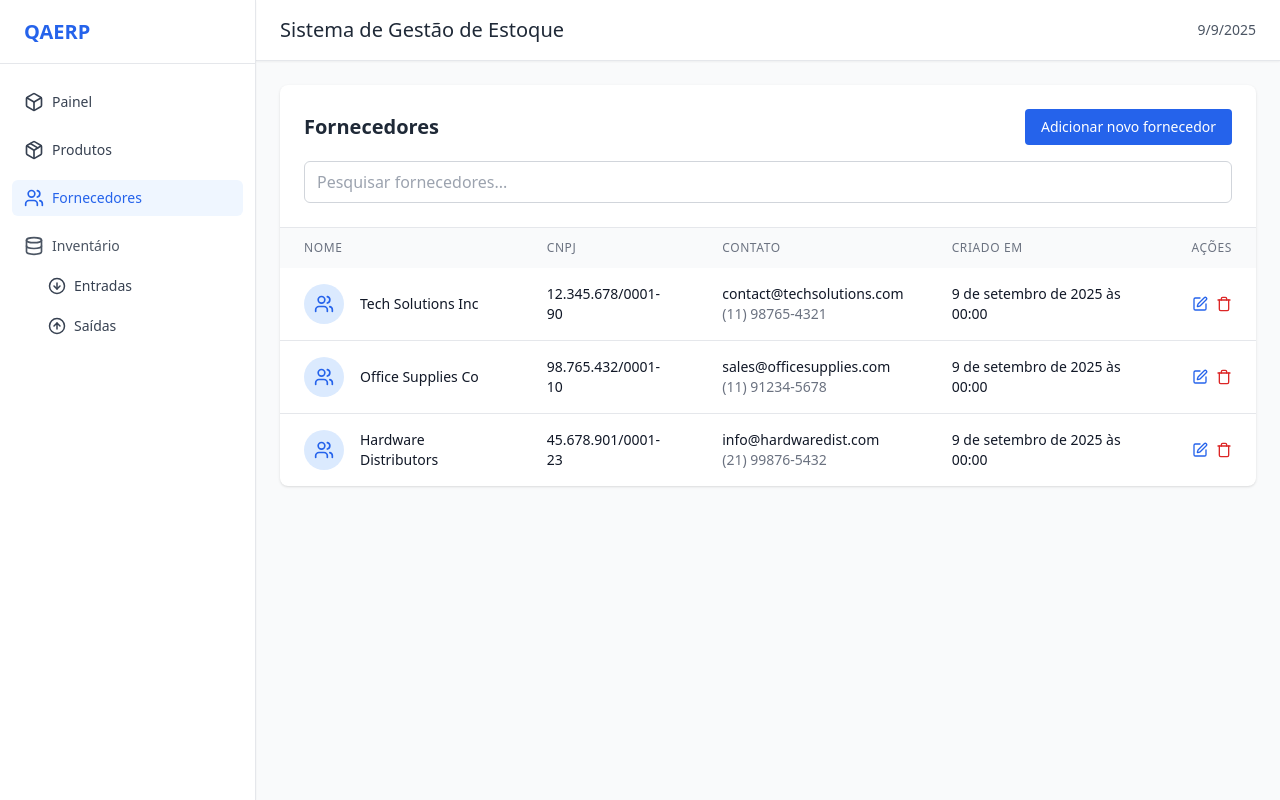
Fornececdores › Adicionar Fornecedores › Adicionar CNPJ sem mascara
This screenshot has width=1280, height=800.
Click the button "Adicionar novo fornecedor" at (1129, 127), box [1025,109,1232,145]
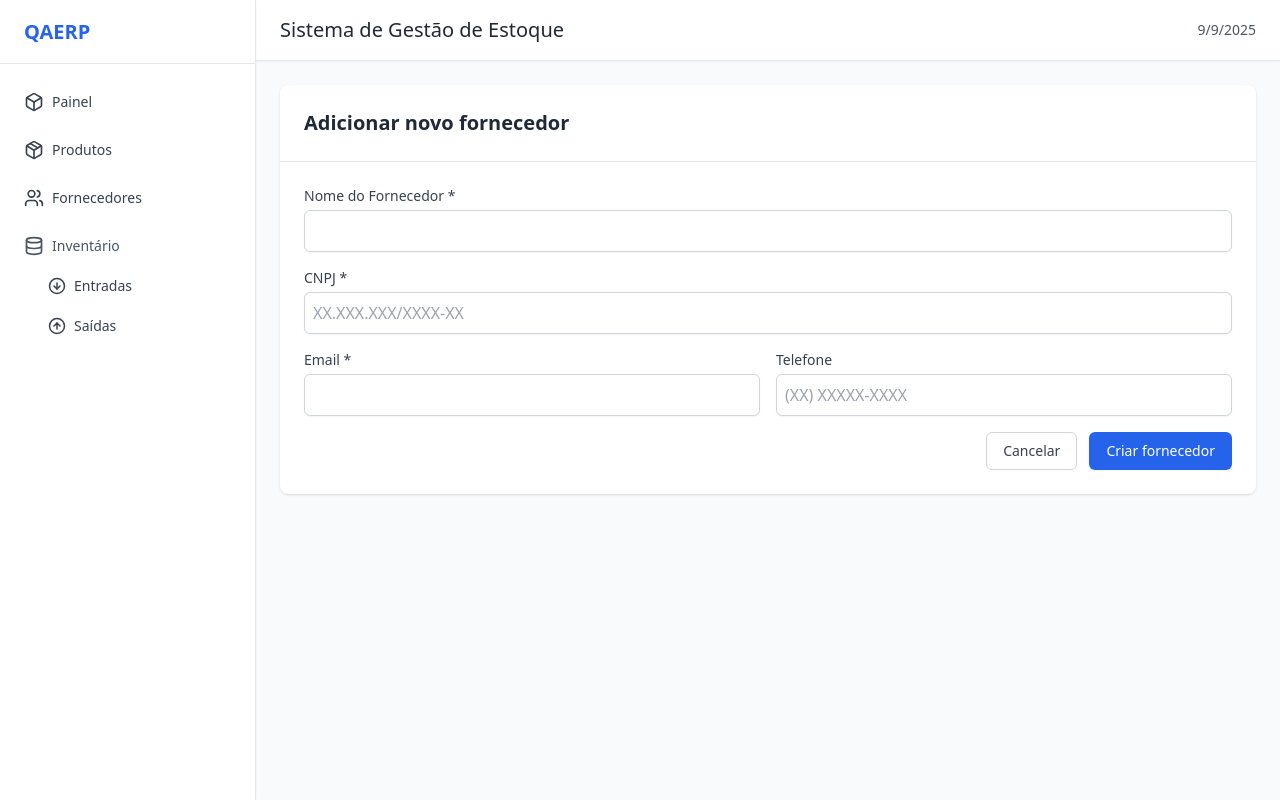
Type "Jogos LTDA" into the field with id "name" at (768, 231), box [304,210,1232,252]
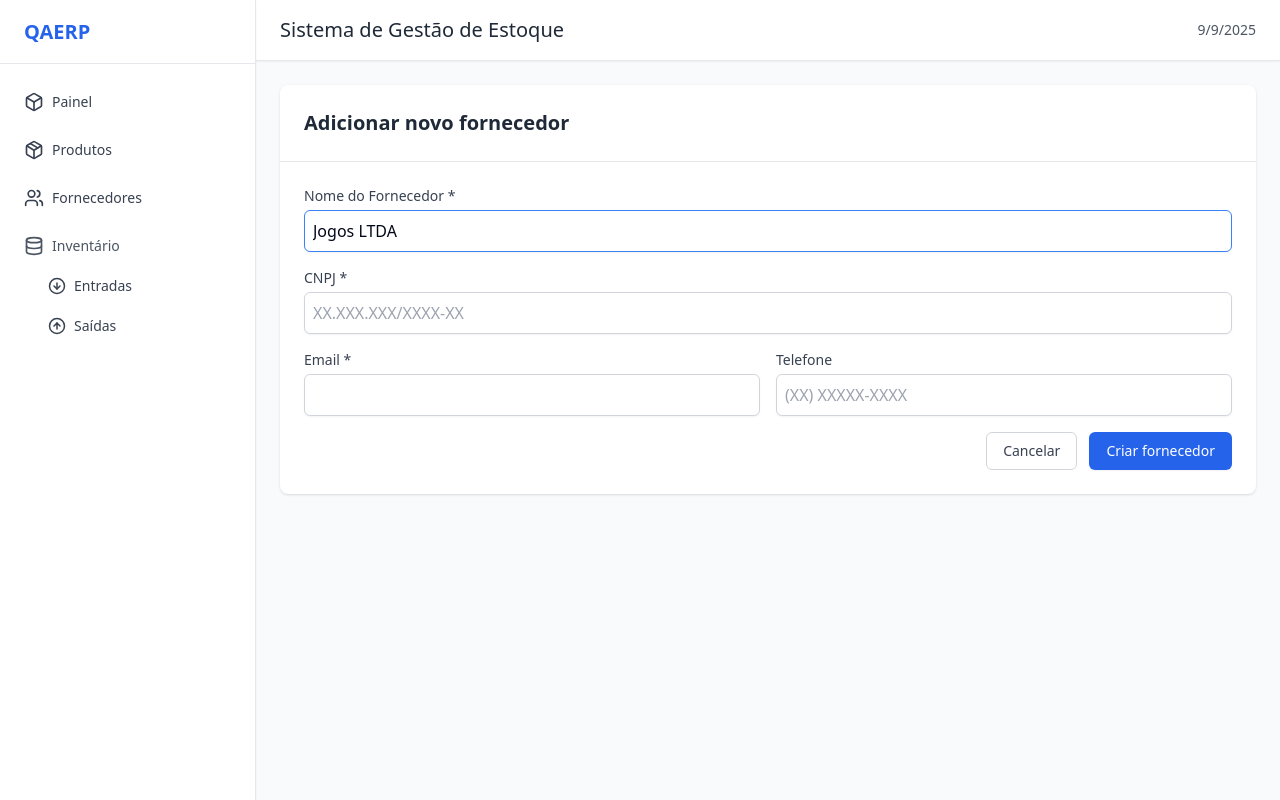
Type "34104798000118" into the field with id "cnpj" at (768, 313), box [304,292,1232,334]
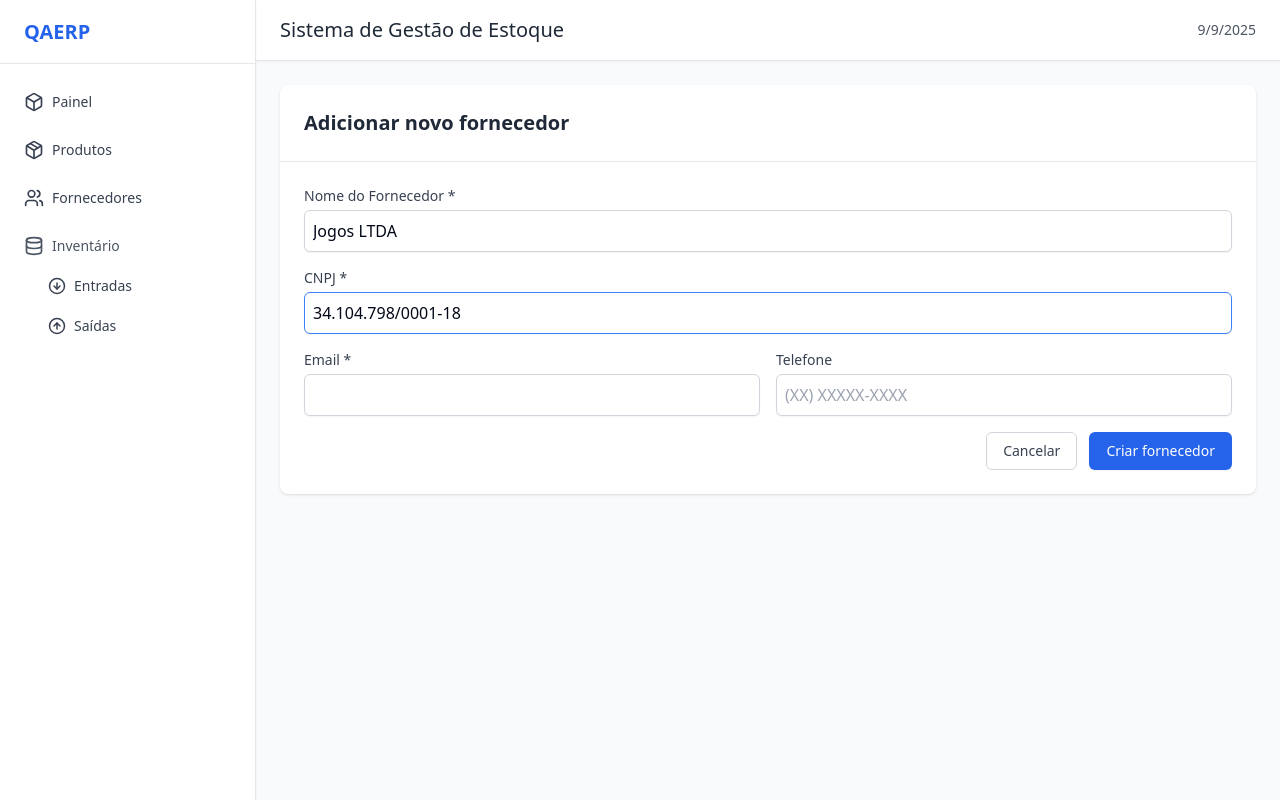
Type "jogos@email.com" into the field with id "email" at (532, 395), box [304,374,760,416]
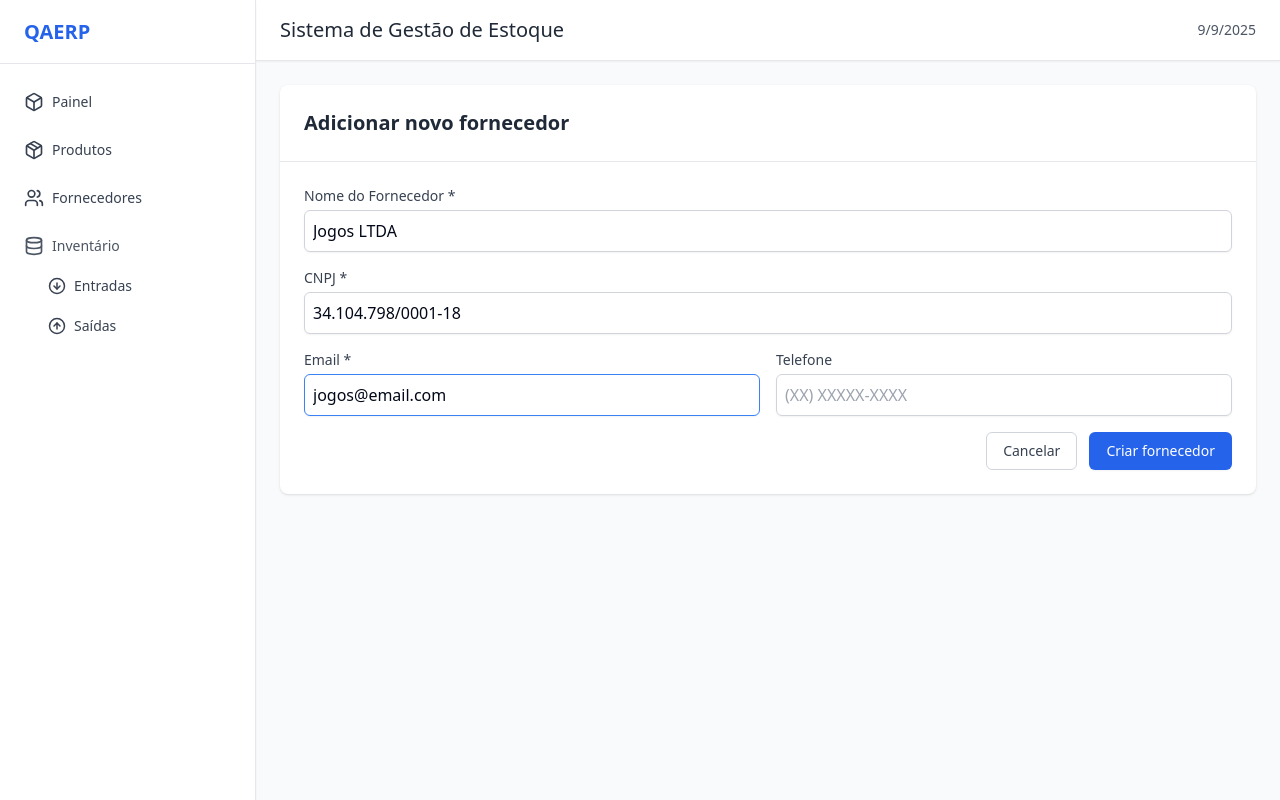
Type "(62) 99999-9999" into the field labelled "Telefone" at (1004, 395), box [776,374,1232,416]
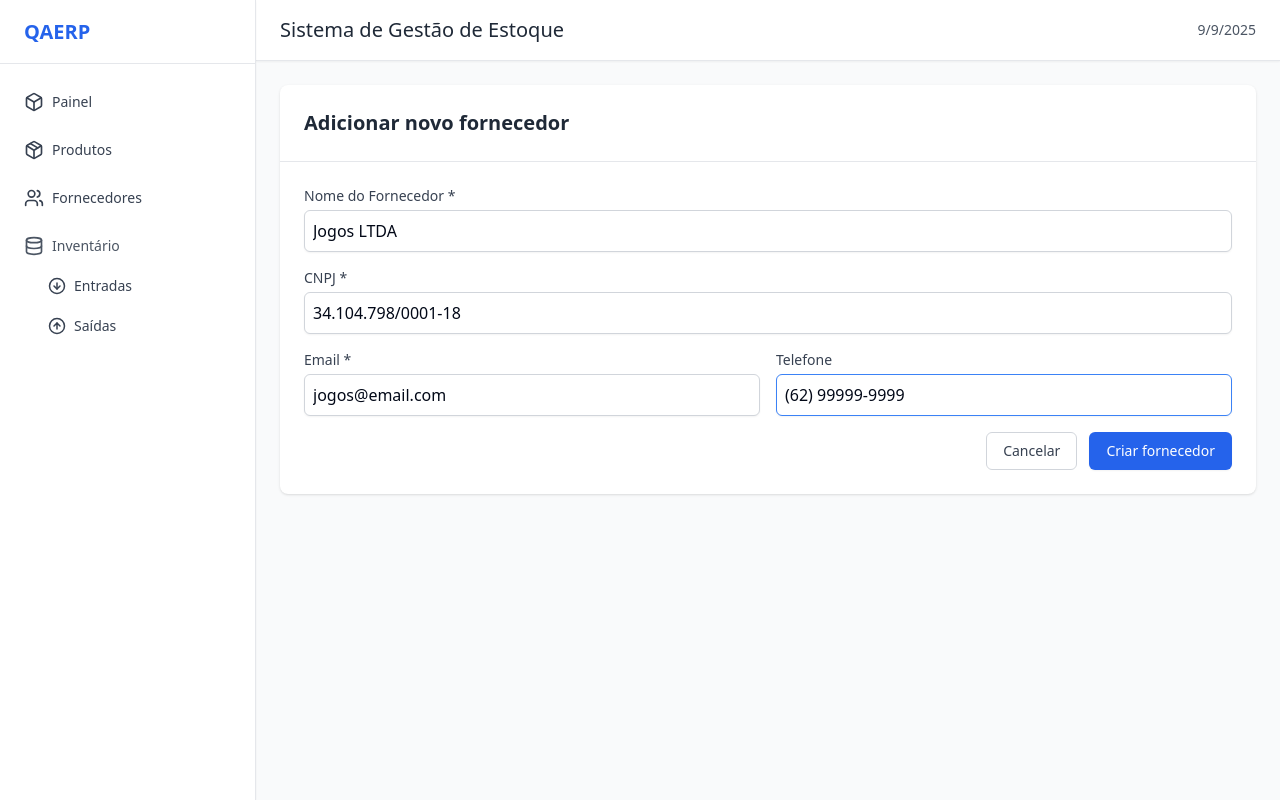
Click the button "Criar fornecedor" at (1161, 451), box [1089,432,1232,470]
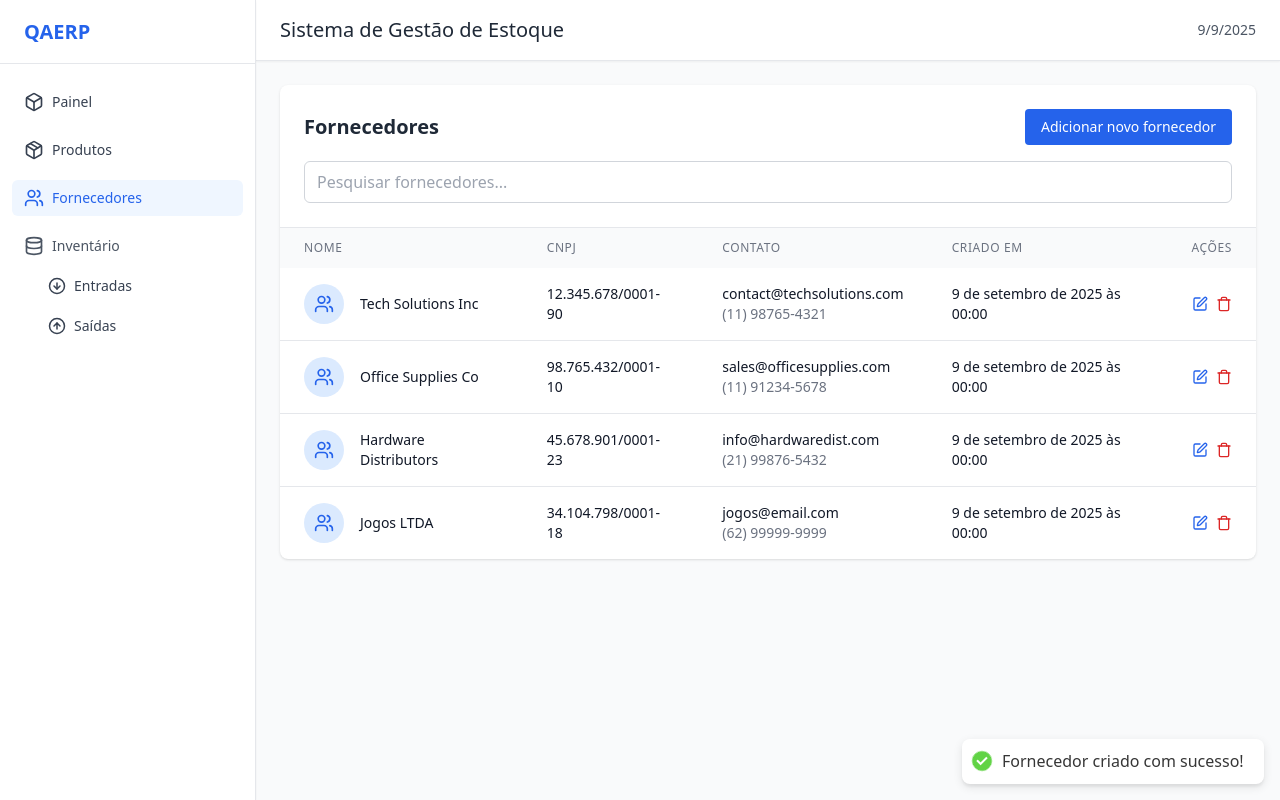
Check: the text "34.104.798/0001-18" is shown, box [547,503,674,543]
